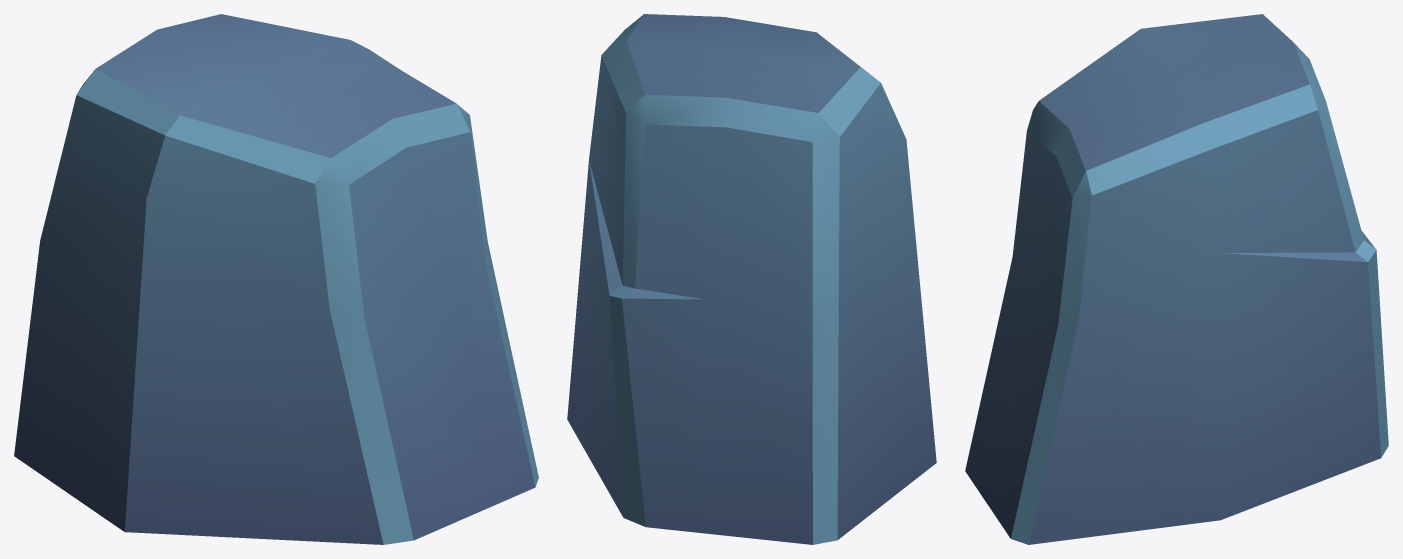
The model's file is Rock-3-1.fbx.
3 views of the same model, side by side, from view 1: azimuth 30°, elevation 25°; view 2: azimuth 150°, elevation 25°; view 3: azimuth 270°, elevation 25° (orthographic). The views are drawn at different scales.
Parts seen in each view (by area): view 1: Rock-3-1; view 2: Rock-3-1; view 3: Rock-3-1.
Part boxes in pixels (x1=…): Rock-3-1: x1=14, y1=14, x2=538, y2=544; Rock-3-1: x1=567, y1=14, x2=936, y2=544; Rock-3-1: x1=965, y1=14, x2=1388, y2=544.
Bounding box in the file's own units: 177 × 185 × 183.
